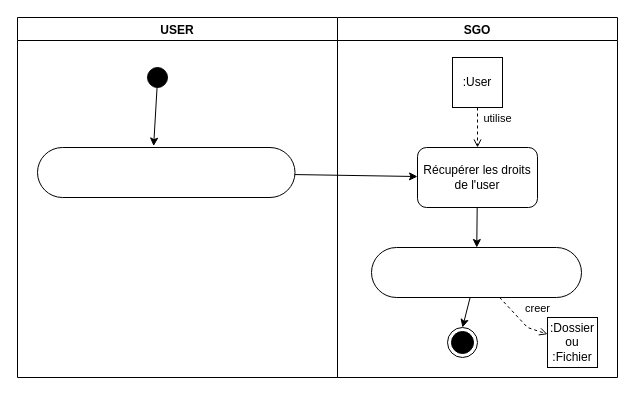
Image size: 635x395. Some labels were removed from this diagram. Each missing label, with the centre of its shape:
"créer le dossier ou le fichier" goes at point (476, 272).
"demander à créer un dossier ou un fichier" goes at point (165, 172).
